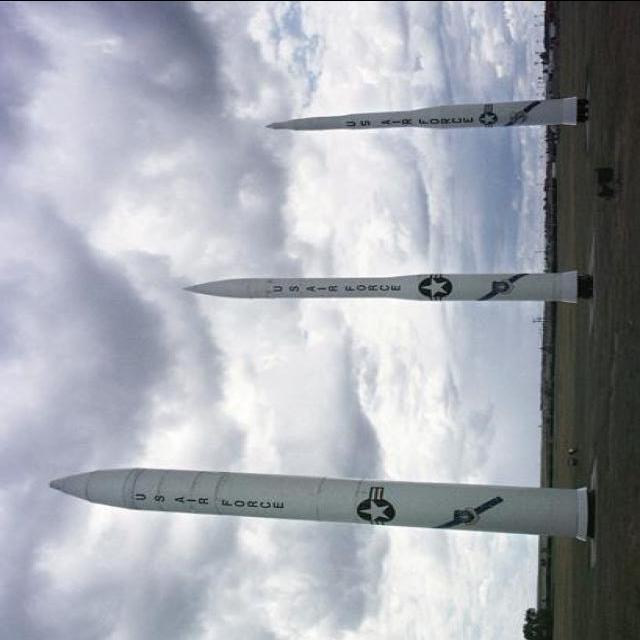missile: (43, 466, 613, 558), (191, 262, 599, 331), (264, 95, 594, 146)
